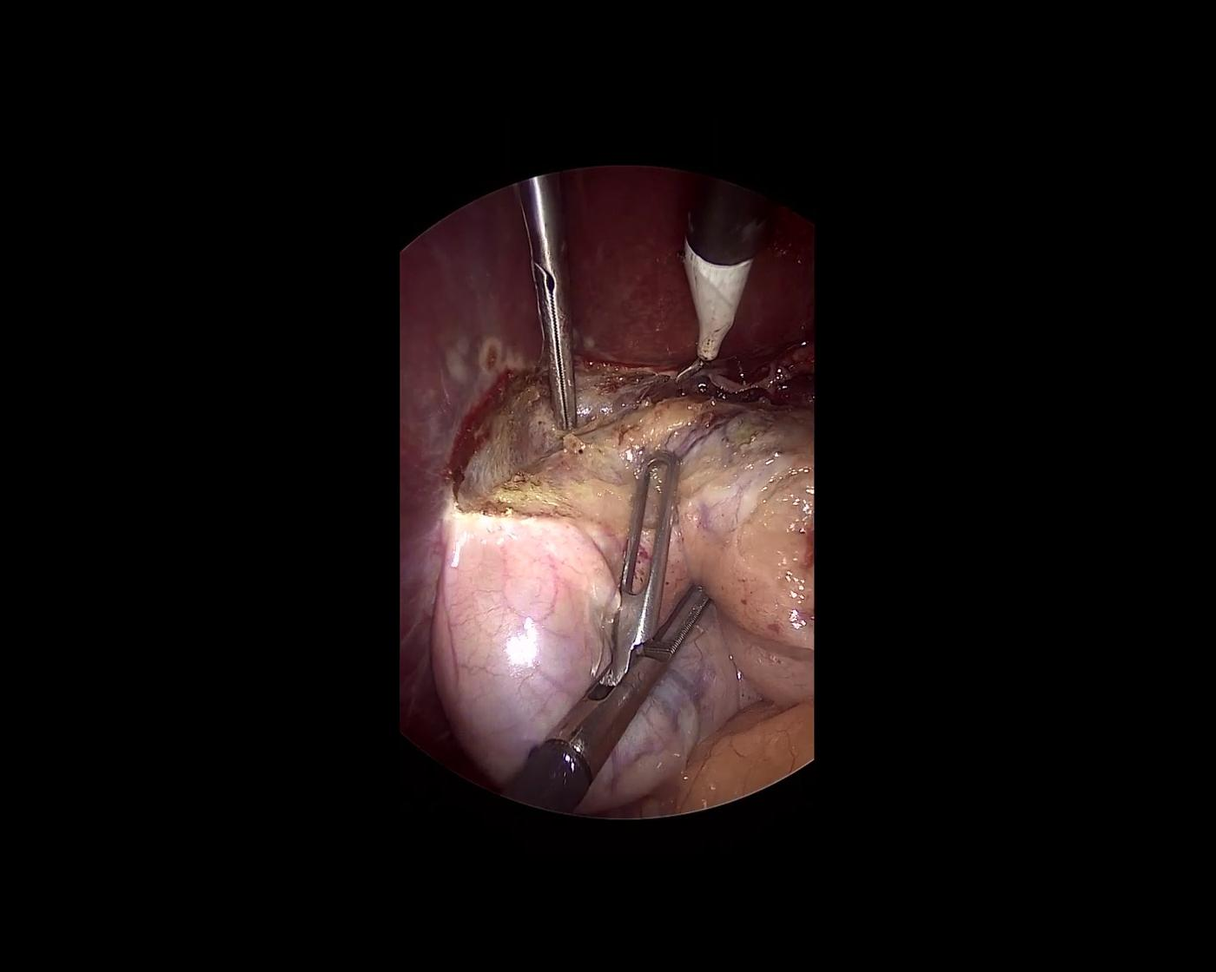Cautery: (647, 169, 768, 393)
Forceps: (460, 442, 764, 833), (520, 171, 578, 430)
Gallbladder: (438, 399, 815, 818)
Liver: (179, 39, 862, 788)
